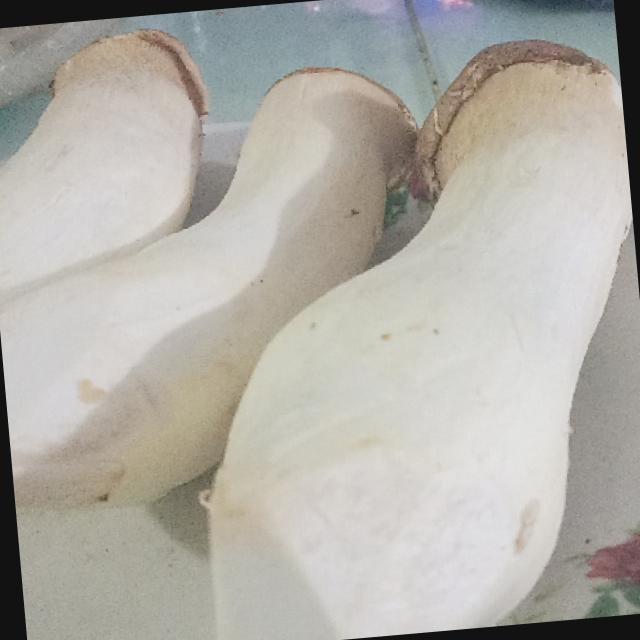Pleurotus eryngii: (162, 29, 640, 640), (0, 5, 449, 519)
